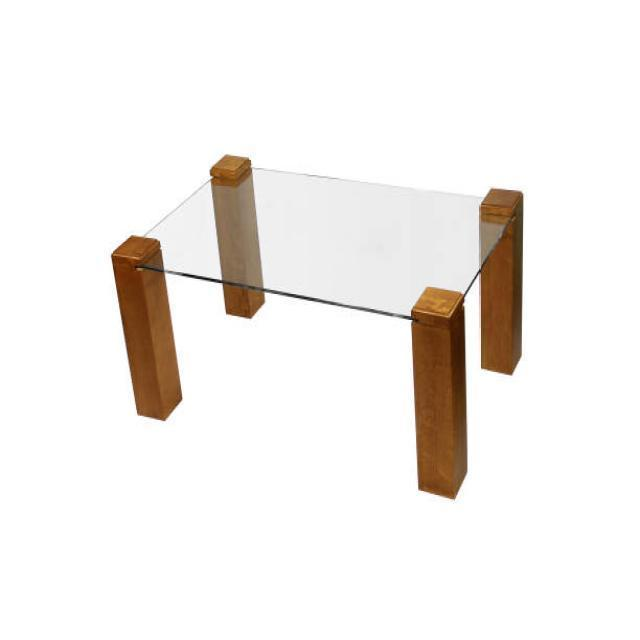table: (110, 152, 524, 500)
